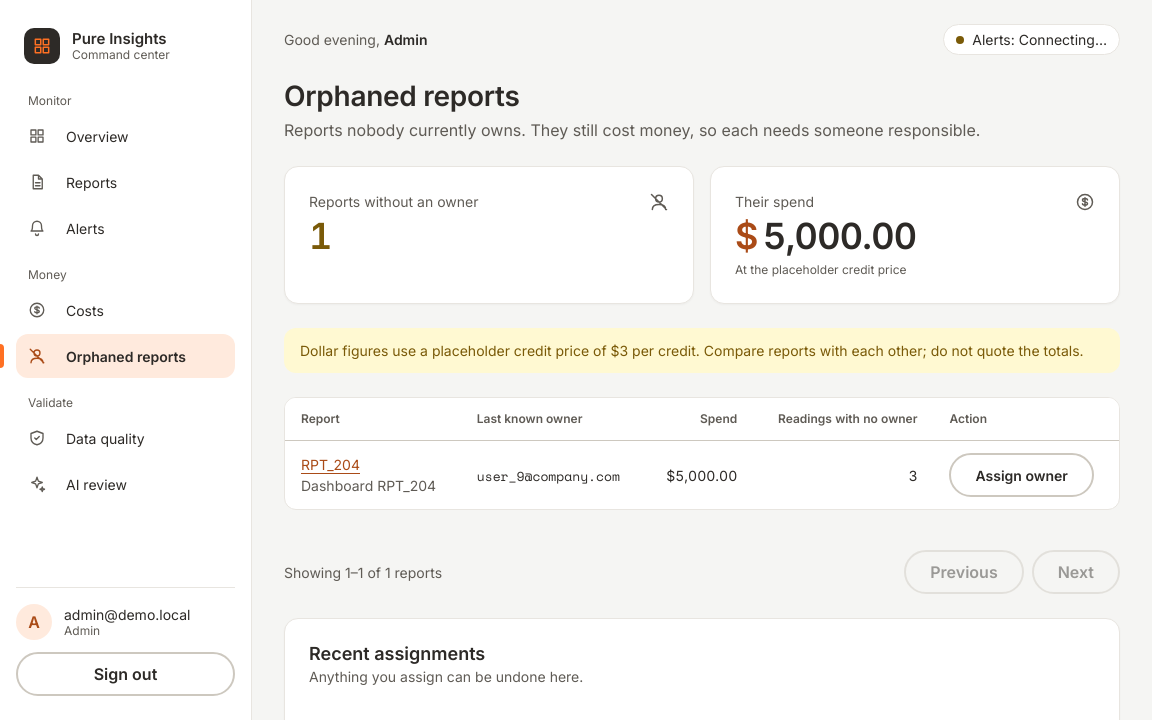
Test: orphaned reports › shows the server's reason when an assignment is rejected
Step 1. Click the button with aria-label "Assign an owner to RPT_204" → click(1022, 475), box [950, 453, 1094, 497]
(page scrolled)
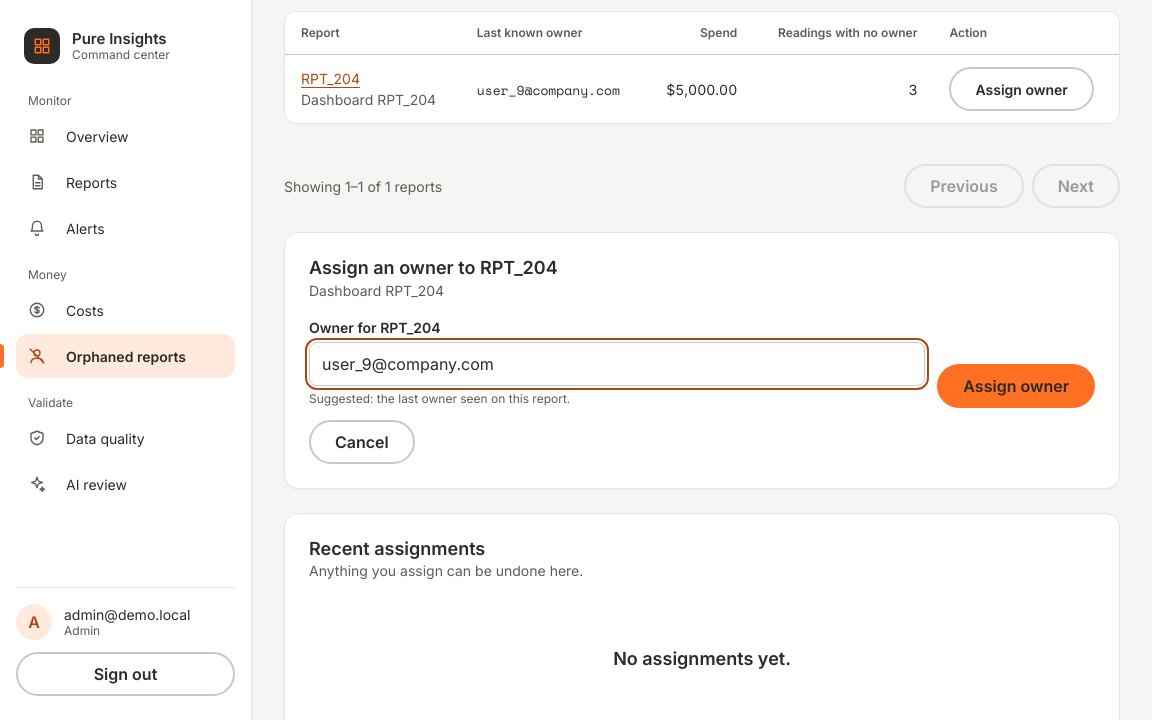
Step 2. Click the 2nd button "Assign owner" → click(1016, 386), box [937, 364, 1095, 408]
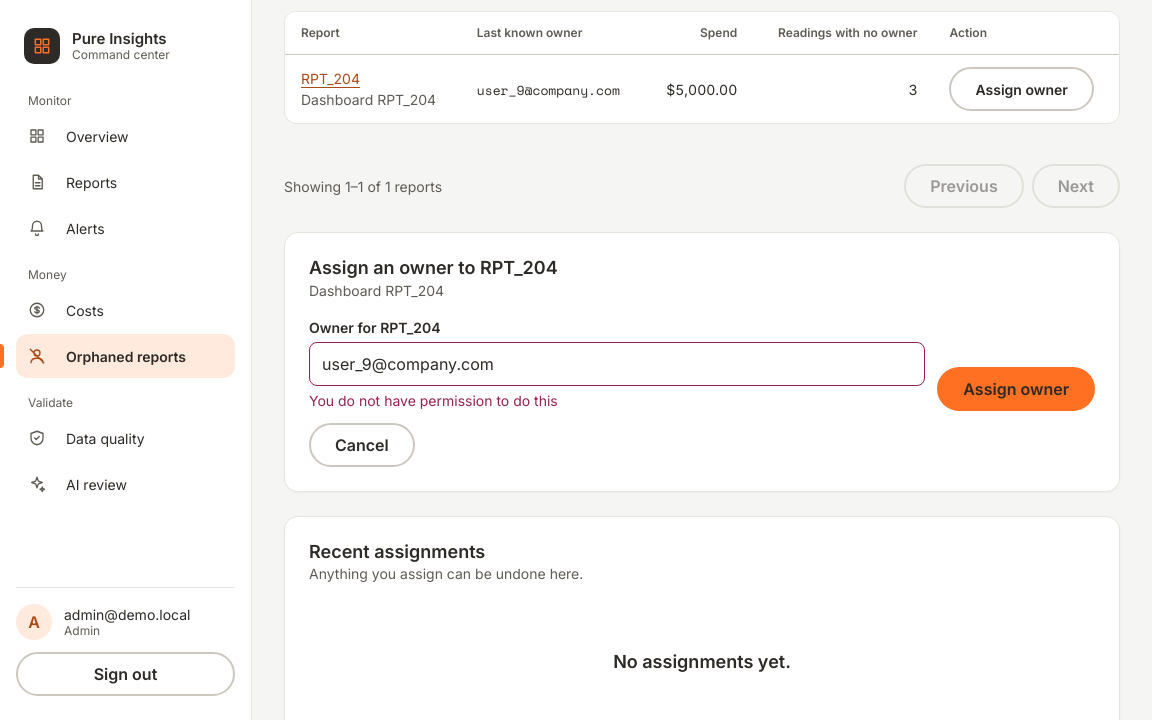
Check: the text "You do not have permission to do this" is shown, box [309, 392, 558, 409]
